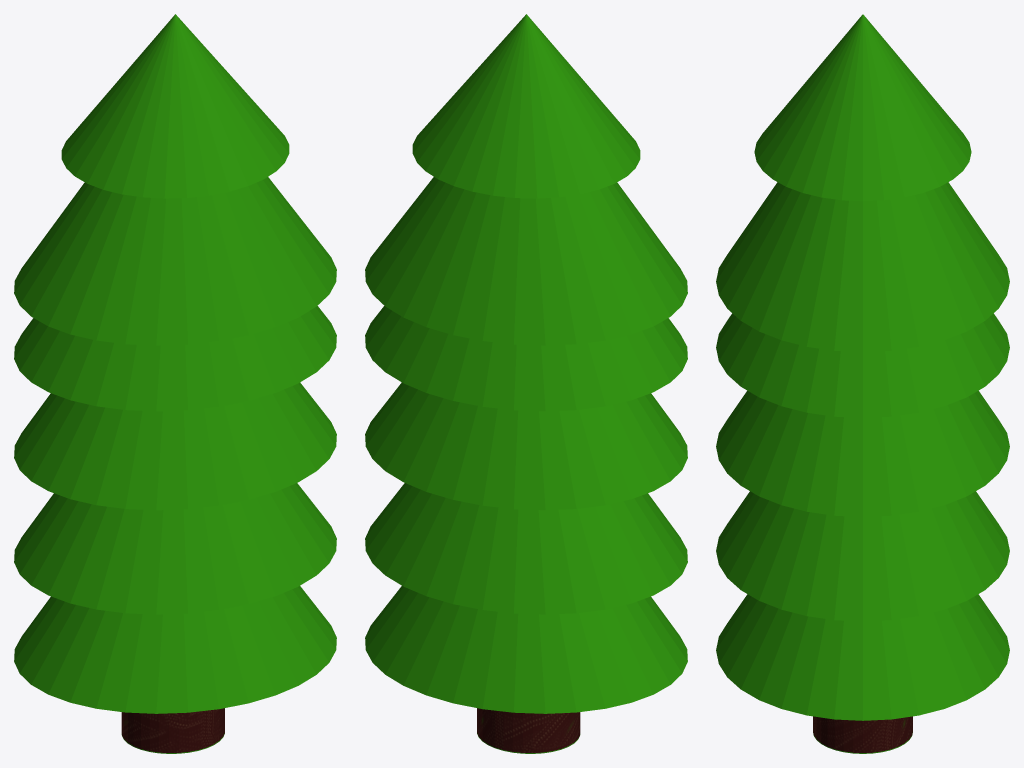
Rendered from Tree.obj.
The picture shows the model from 3 angles, left to right: view 1: azimuth 30°, elevation 25°; view 2: azimuth 150°, elevation 25°; view 3: azimuth 270°, elevation 25°; orthographic projection.
Visible parts, largest first — view 1: Cone.002; view 2: Cone.002; view 3: Cone.002.
Part boxes in pixels (left/top/right/bottom): Cone.002: left=14, top=14, right=336, bottom=753; Cone.002: left=365, top=14, right=687, bottom=753; Cone.002: left=716, top=14, right=1009, bottom=753.
Size of the model in its own units: 1.45 by 3.44 by 1.28.
1 material, 1 textured.
